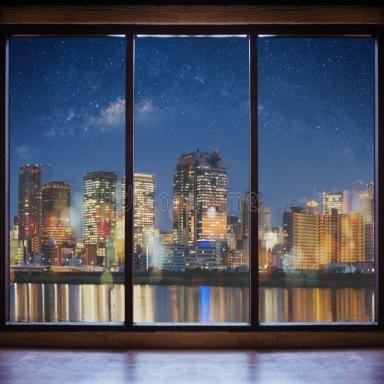glass_panel: (260, 38, 374, 324), (136, 35, 248, 322), (11, 37, 123, 321)
